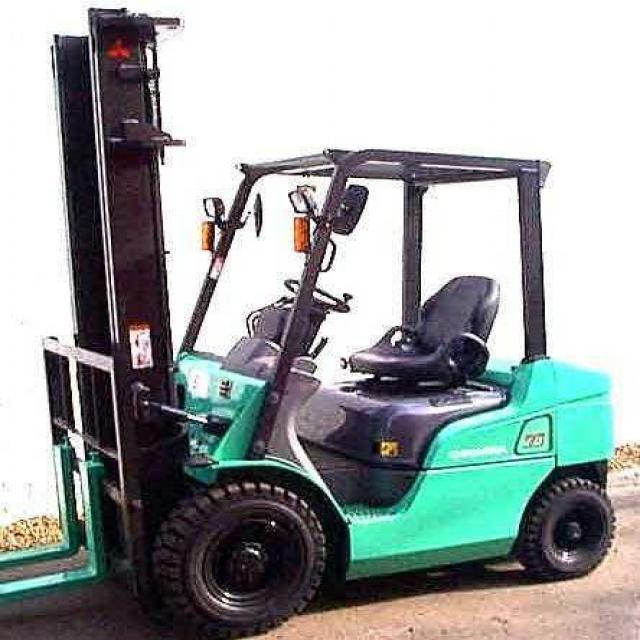forklift: (0, 6, 619, 639)
